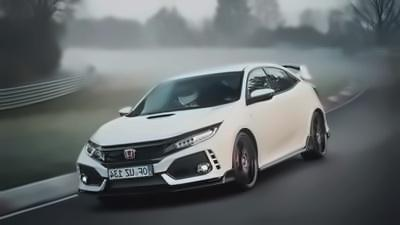Car hood: (88, 101, 231, 147)
Fender - -F-L-: (221, 98, 262, 170)
Fender - -R-L-: (307, 85, 322, 146)
Front bumper: (73, 139, 239, 202)
Headlight - -L-: (171, 120, 225, 151)
Headlight - -R-: (82, 136, 107, 164)
Passenger-s door - -F-L-: (247, 66, 282, 167)
Passenger-s door - -R-L-: (270, 65, 309, 163)
Side bumper - -L-: (254, 145, 310, 174)
Side mirror - -L-: (246, 87, 278, 108)
Side mirror - -R-: (117, 102, 137, 118)
